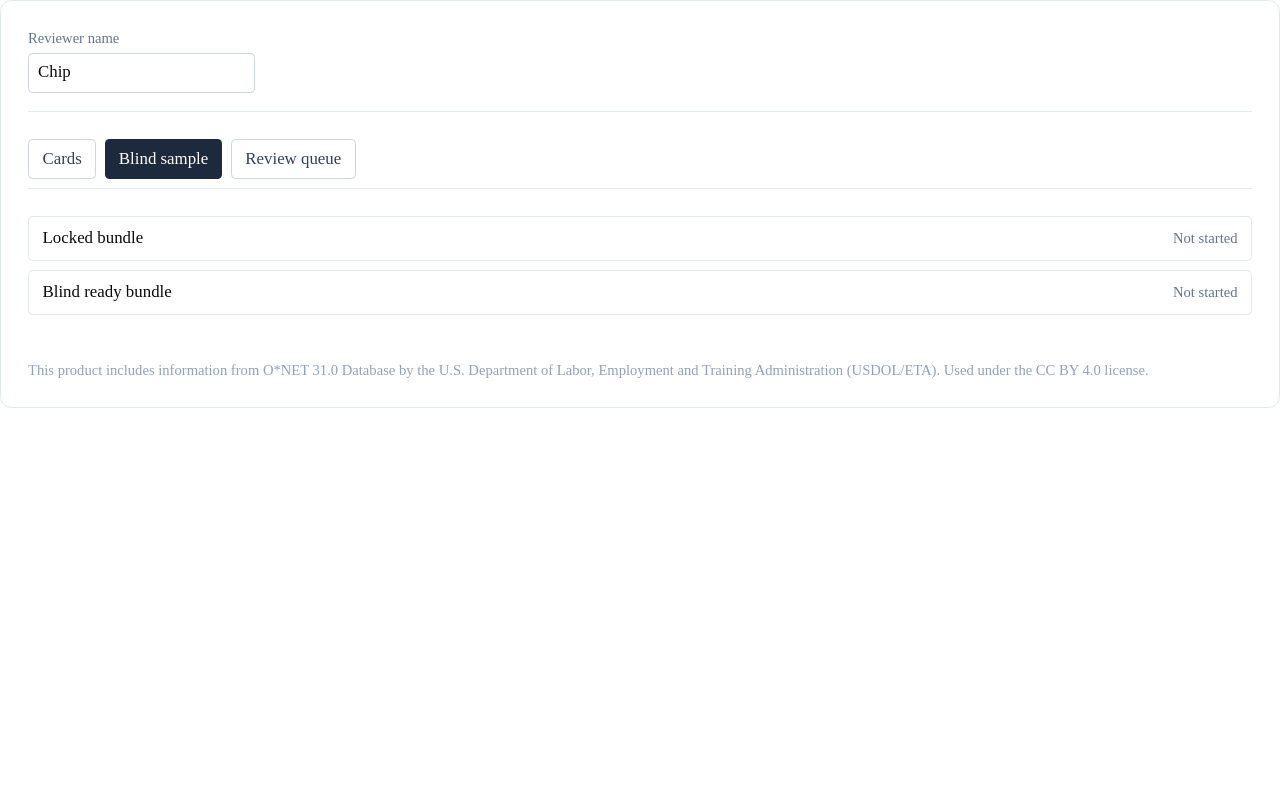
Test: BundlesPanel › the blind panel shows the same bundle definition the AI mapping prompt sees: K/U/D descriptors plus negative examples (final-review.md I-1)
Click the button "Blind ready bundle" at (107, 292), box [42,280,172,305]
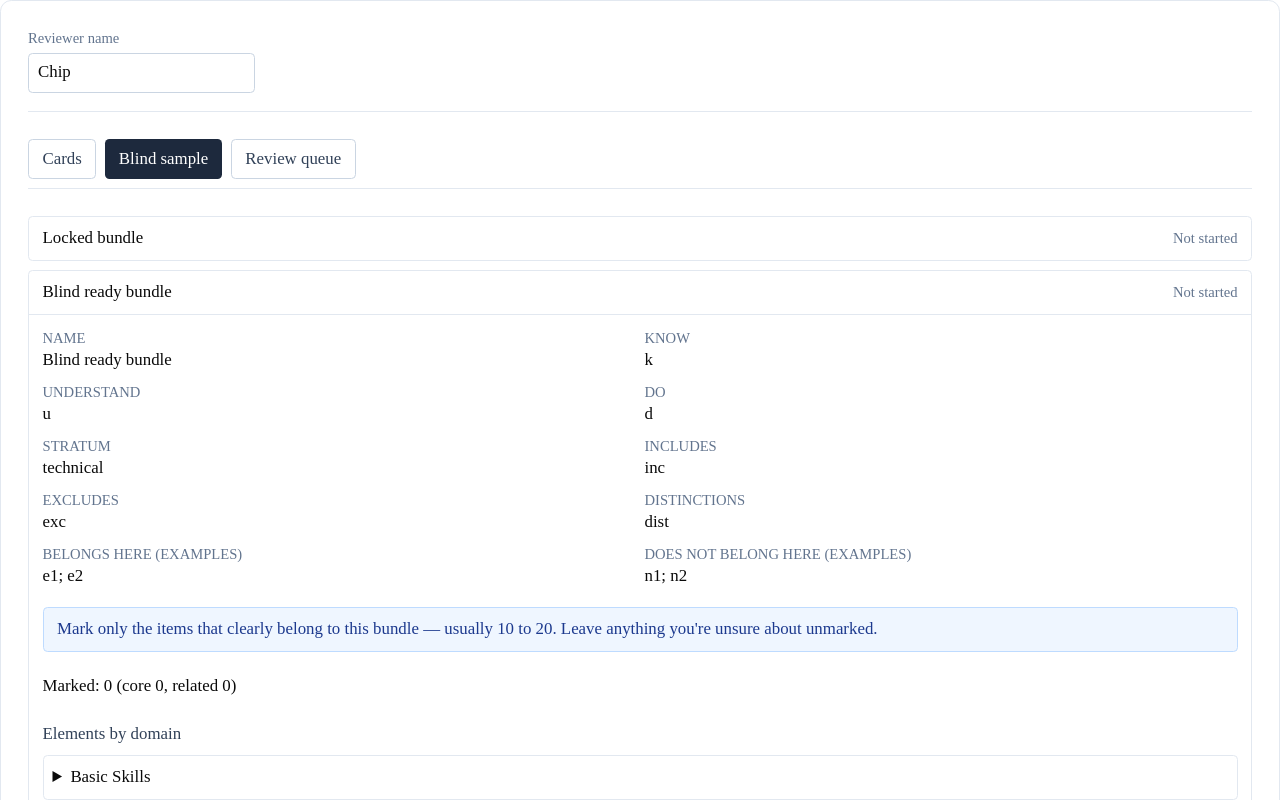
Result: the text "k" is shown at [644,350,653,370]
Result: the text "u" is shown at [42,404,51,424]
Result: the text "d" is shown at [644,404,653,424]
